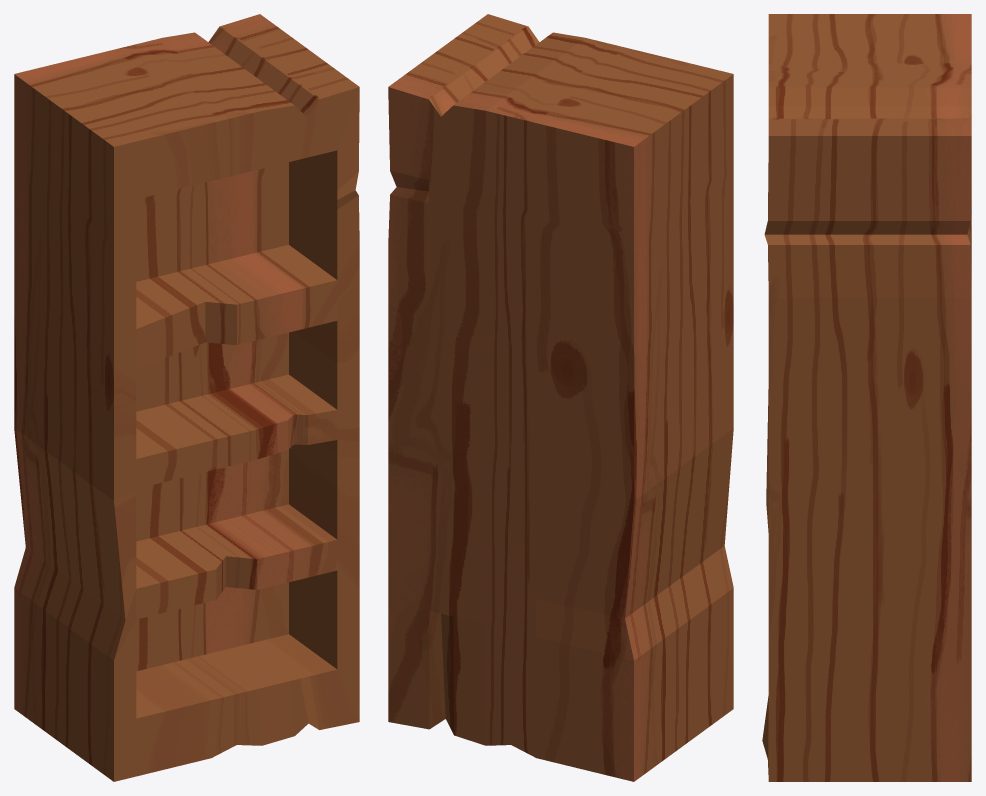
The model's file is SzafaMała.fbx.
3 renders of one model, left to right at view 1: azimuth 30°, elevation 25°; view 2: azimuth 150°, elevation 25°; view 3: azimuth 270°, elevation 25°, orthographic.
Visible parts, largest first — view 1: SzafaMała; view 2: SzafaMała; view 3: SzafaMała.
Boxes of the visible parts, left/top/right/bottom form: SzafaMała: left=14, top=14, right=359, bottom=781; SzafaMała: left=388, top=14, right=733, bottom=781; SzafaMała: left=762, top=14, right=971, bottom=781.
Size of the model in its own units: 140 by 345 by 101.
